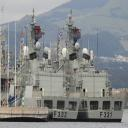Fragata: (66, 9, 127, 126), (19, 6, 80, 123)
